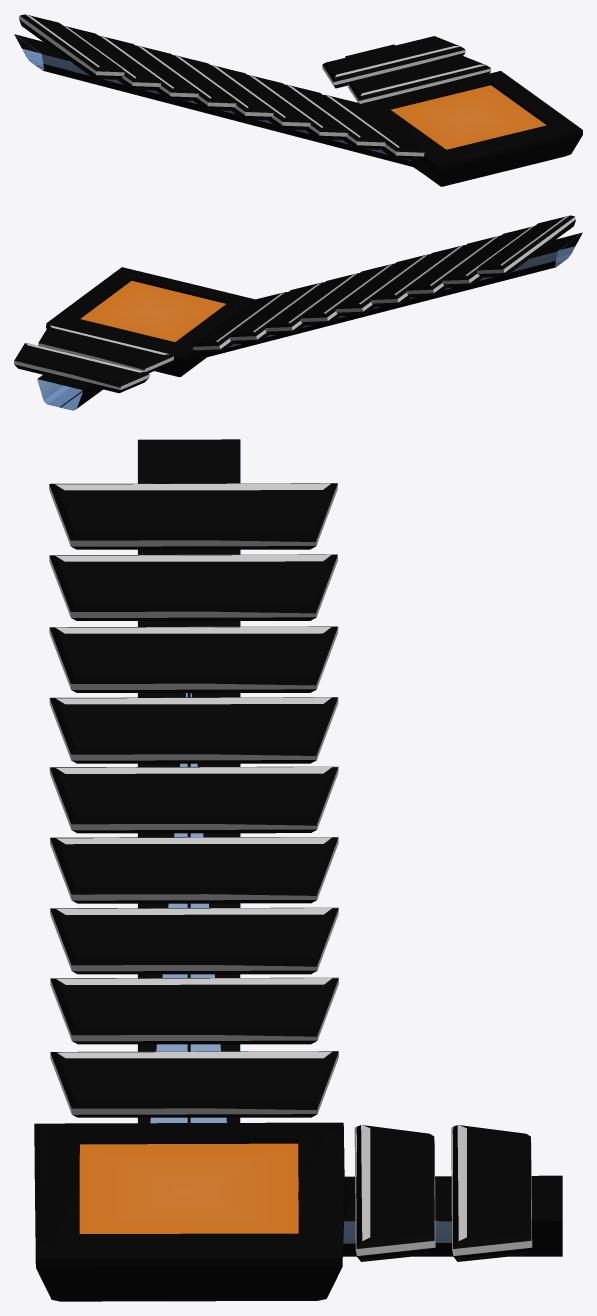
Rendered from Rooms_Paradise_PlatformStairs01_Art.fbx.
3 views of the same model, one above another, from view 1: azimuth 30°, elevation 25°; view 2: azimuth 150°, elevation 25°; view 3: azimuth 270°, elevation 25° (orthographic). The views are drawn at different scales.
Visible parts, largest first — view 1: Rooms_Paradise_PlatformStairs01_Outliner, Rooms_Paradise_PlatformStairs01_Support01_Outliner, Rooms_Paradise_PlatformStairs01_Shadows, Rooms_Paradise_PlatformStairs01_Crystal01, Rooms_Paradise_PlatformStairs01_Support01; view 2: Rooms_Paradise_PlatformStairs01_Outliner, Rooms_Paradise_PlatformStairs01_Support01_Outliner, Rooms_Paradise_PlatformStairs01_Shadows, Rooms_Paradise_PlatformStairs01_Crystal01, Rooms_Paradise_PlatformStairs01_Support01; view 3: Rooms_Paradise_PlatformStairs01_Outliner, Rooms_Paradise_PlatformStairs01_Support01_Outliner, Rooms_Paradise_PlatformStairs01_Shadows, Rooms_Paradise_PlatformStairs01_Crystal01, Rooms_Paradise_PlatformStairs01_Support01.
Part boxes in pixels (box(x1,y1,x2,y2)): Rooms_Paradise_PlatformStairs01_Outliner: box(19, 14, 490, 160); Rooms_Paradise_PlatformStairs01_Support01_Outliner: box(14, 34, 582, 186); Rooms_Paradise_PlatformStairs01_Shadows: box(19, 14, 491, 156); Rooms_Paradise_PlatformStairs01_Crystal01: box(391, 85, 546, 149); Rooms_Paradise_PlatformStairs01_Support01: box(14, 34, 410, 160); Rooms_Paradise_PlatformStairs01_Outliner: box(14, 215, 575, 393); Rooms_Paradise_PlatformStairs01_Support01_Outliner: box(37, 232, 582, 409); Rooms_Paradise_PlatformStairs01_Shadows: box(14, 215, 575, 389); Rooms_Paradise_PlatformStairs01_Crystal01: box(80, 280, 225, 341); Rooms_Paradise_PlatformStairs01_Support01: box(37, 233, 582, 410); Rooms_Paradise_PlatformStairs01_Outliner: box(50, 483, 530, 1261); Rooms_Paradise_PlatformStairs01_Support01_Outliner: box(34, 439, 562, 1301); Rooms_Paradise_PlatformStairs01_Shadows: box(49, 483, 532, 1255); Rooms_Paradise_PlatformStairs01_Crystal01: box(79, 1143, 298, 1233); Rooms_Paradise_PlatformStairs01_Support01: box(137, 440, 451, 1243).
Bounding box in the file's own units: 910 × 356 × 428.
